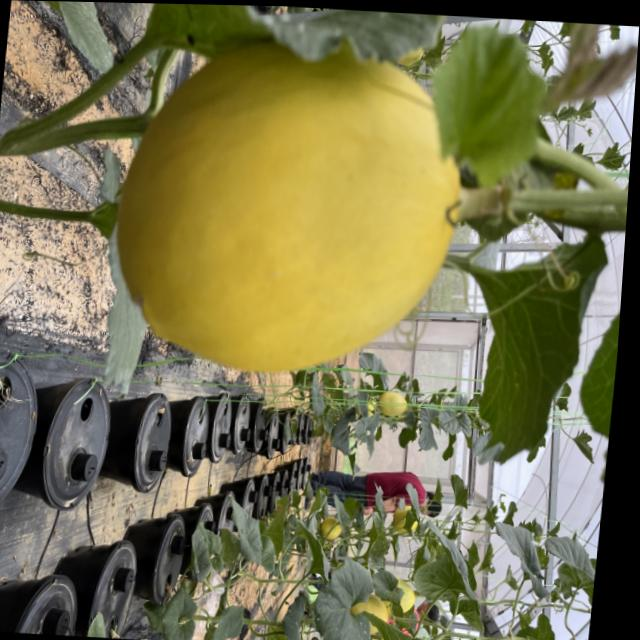healthy: (406, 543, 493, 638), (310, 554, 380, 640), (535, 530, 599, 618), (488, 518, 548, 597), (225, 494, 267, 568), (262, 489, 295, 558), (162, 584, 200, 640), (370, 612, 446, 640)
